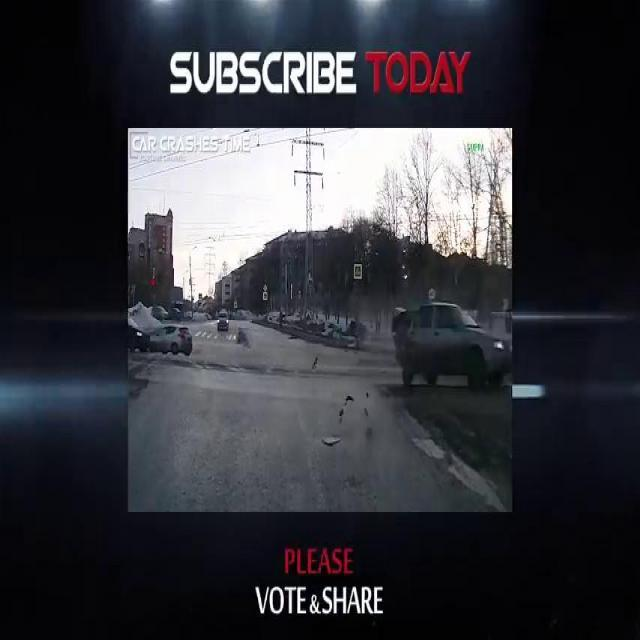moderate: (126, 314, 196, 360)
